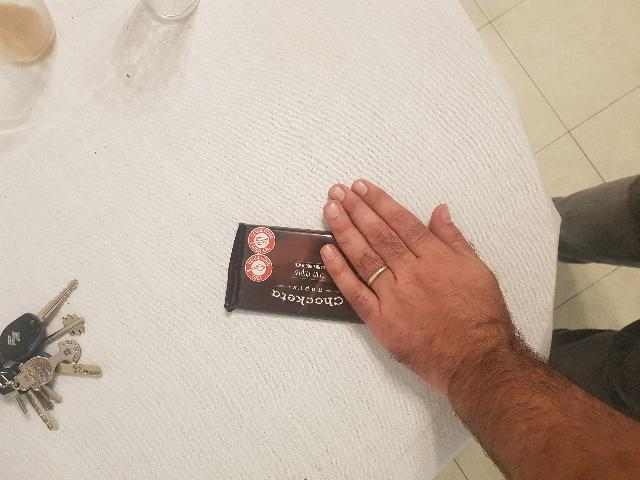chocolate: (216, 210, 459, 335)
